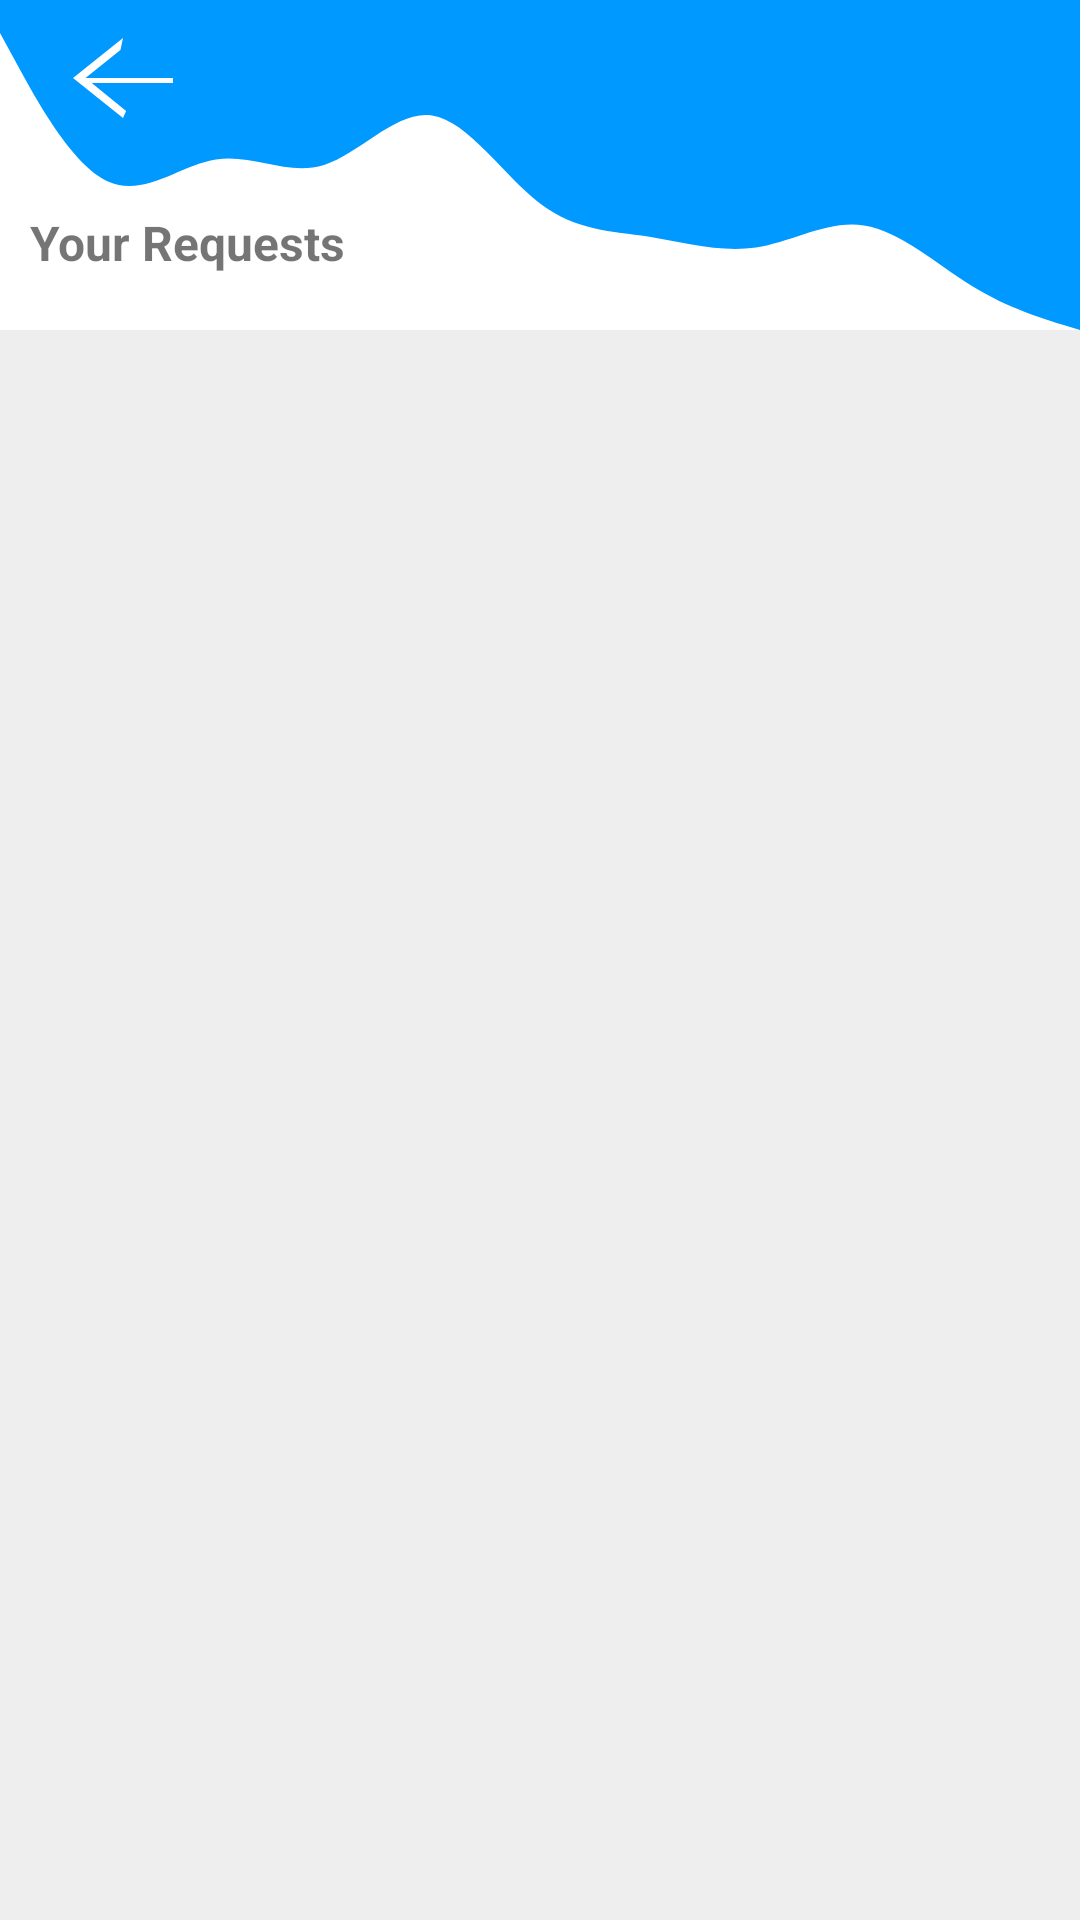

Named icons in this screenshot (1080*1920) and their bounding boxes, (x1, y1, x2, y2):
back arrow: (73, 38, 173, 118)
